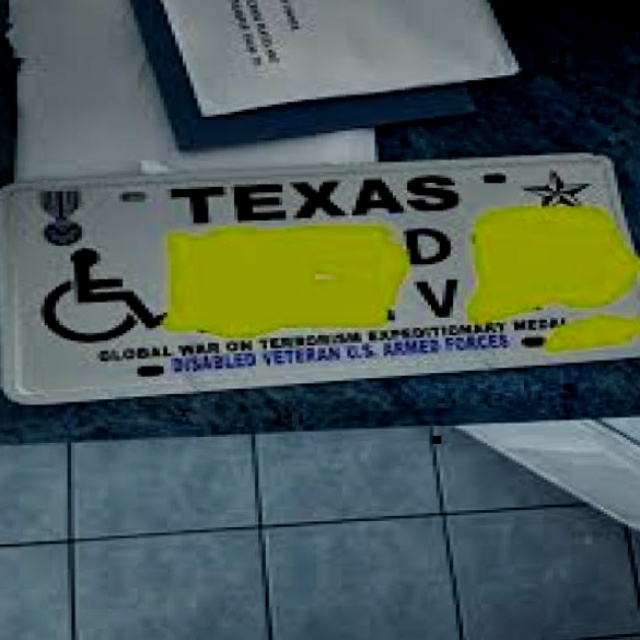ISA: (38, 245, 166, 343)
